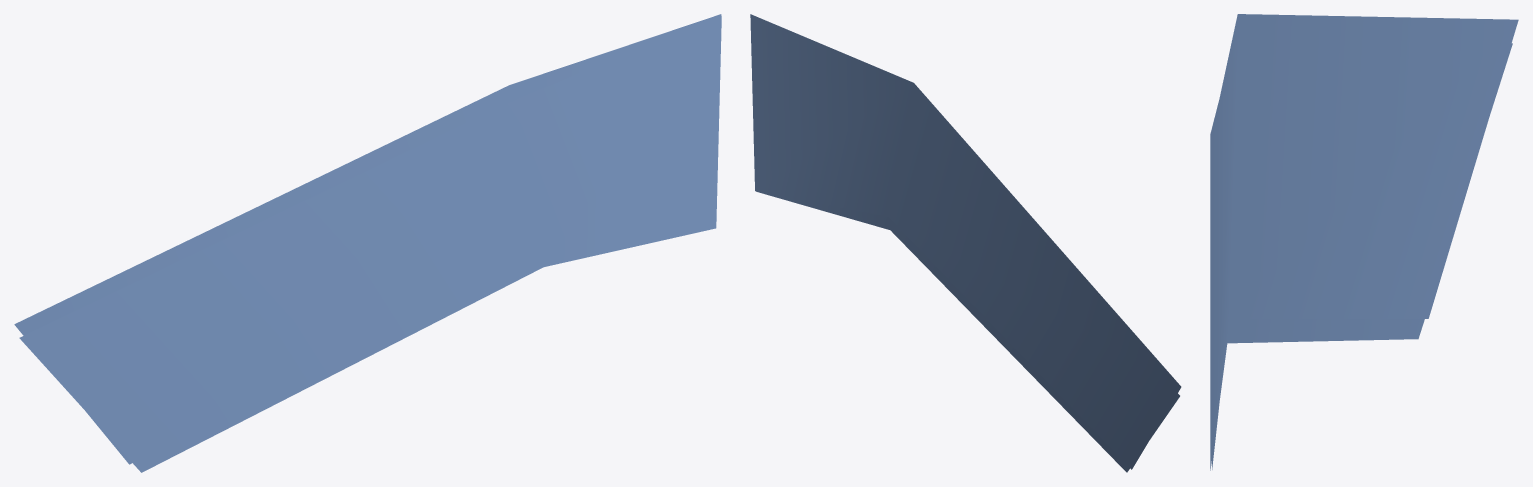
Rendered from Banner_E_LOD2.fbx.
The picture shows the model from 3 angles, left to right: view 1: azimuth 30°, elevation 25°; view 2: azimuth 150°, elevation 25°; view 3: azimuth 270°, elevation 25°; orthographic projection. The views are drawn at different scales.
Parts seen in each view (by area): view 1: Banner_E_LOD2; view 2: Banner_E_LOD2; view 3: Banner_E_LOD2.
Part boxes in pixels (box(x1,y1,x2,y2)): Banner_E_LOD2: box(14, 14, 721, 472); Banner_E_LOD2: box(750, 14, 1181, 472); Banner_E_LOD2: box(1210, 14, 1518, 470).
Bounding box in the file's own units: 142 × 83.82 × 38.01.
